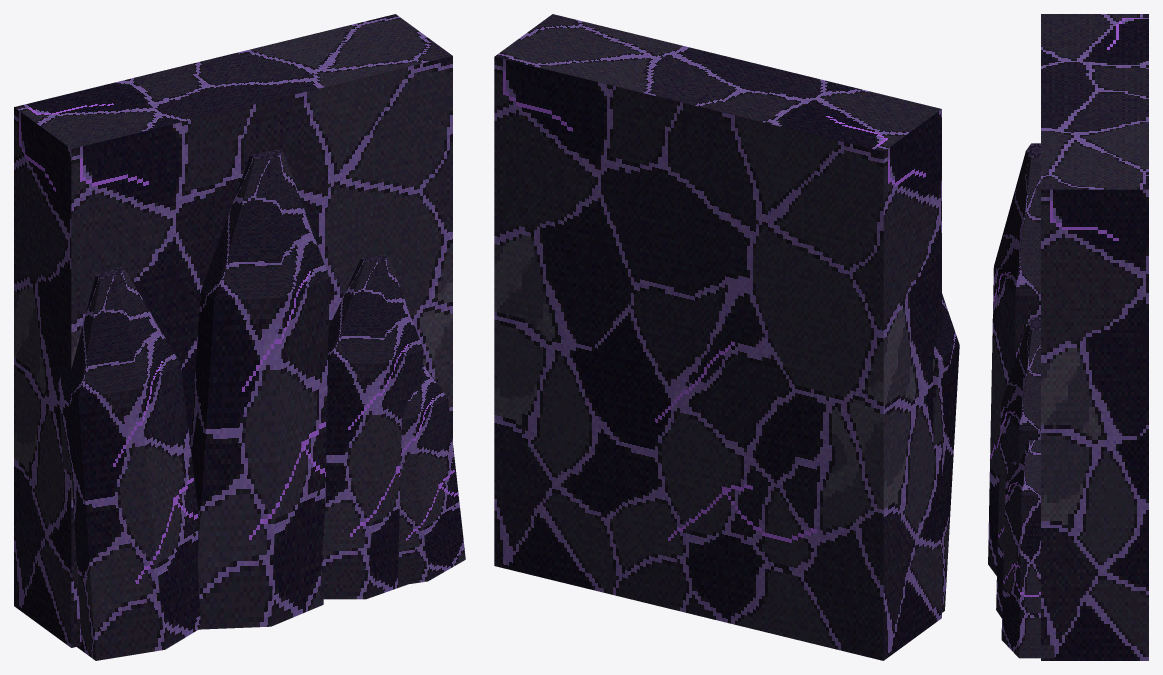
Rendered from parede_caverna_obsidiana.glb.
The picture shows the model from 3 angles, left to right: view 1: azimuth 30°, elevation 25°; view 2: azimuth 150°, elevation 25°; view 3: azimuth 270°, elevation 25°; orthographic projection. The views are drawn at different scales.
Parts seen in each view (by area): view 1: parede_caverna_obsidiana; view 2: parede_caverna_obsidiana; view 3: parede_caverna_obsidiana.
Part boxes in pixels (x1,y1,x2,y2): parede_caverna_obsidiana: (14, 14, 465, 660); parede_caverna_obsidiana: (494, 14, 959, 660); parede_caverna_obsidiana: (988, 14, 1148, 660).
Bounding box in the file's own units: 2.03 × 2.53 × 0.774.
Materials: 1 (1 with a texture image).
